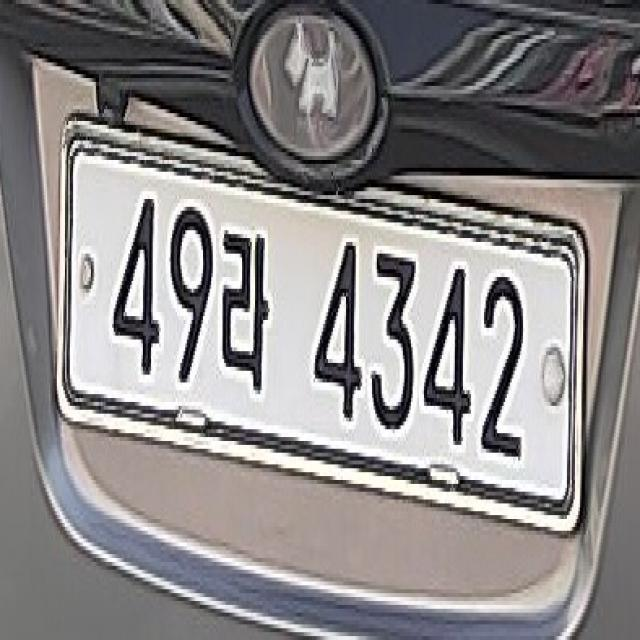2: (477, 267, 529, 466)
3: (369, 228, 417, 444)
4: (110, 178, 165, 384), (312, 226, 364, 429), (422, 254, 471, 451)
9: (168, 190, 220, 393)
la: (222, 205, 282, 411)
license_plate: (48, 99, 592, 551)
